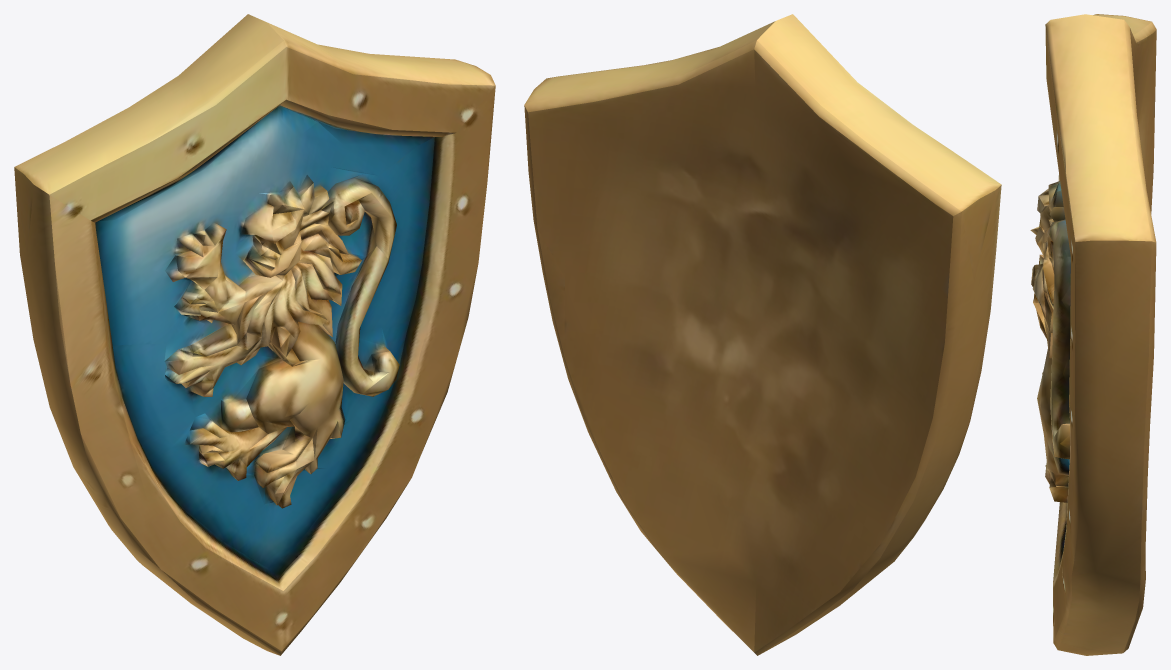
File: shield.glb
3 views of the same model, side by side, from view 1: azimuth 30°, elevation 25°; view 2: azimuth 150°, elevation 25°; view 3: azimuth 270°, elevation 25° (orthographic). The views are drawn at different scales.
Parts seen in each view (by area): view 1: model; view 2: model; view 3: model.
Boxes of the visible parts, bbox=[...] form: model: bbox=[14, 14, 495, 655]; model: bbox=[524, 14, 1001, 655]; model: bbox=[1030, 14, 1156, 655].
Bounding box in the file's own units: 1.44 × 1.9 × 0.3398.
1 material, 1 textured.
